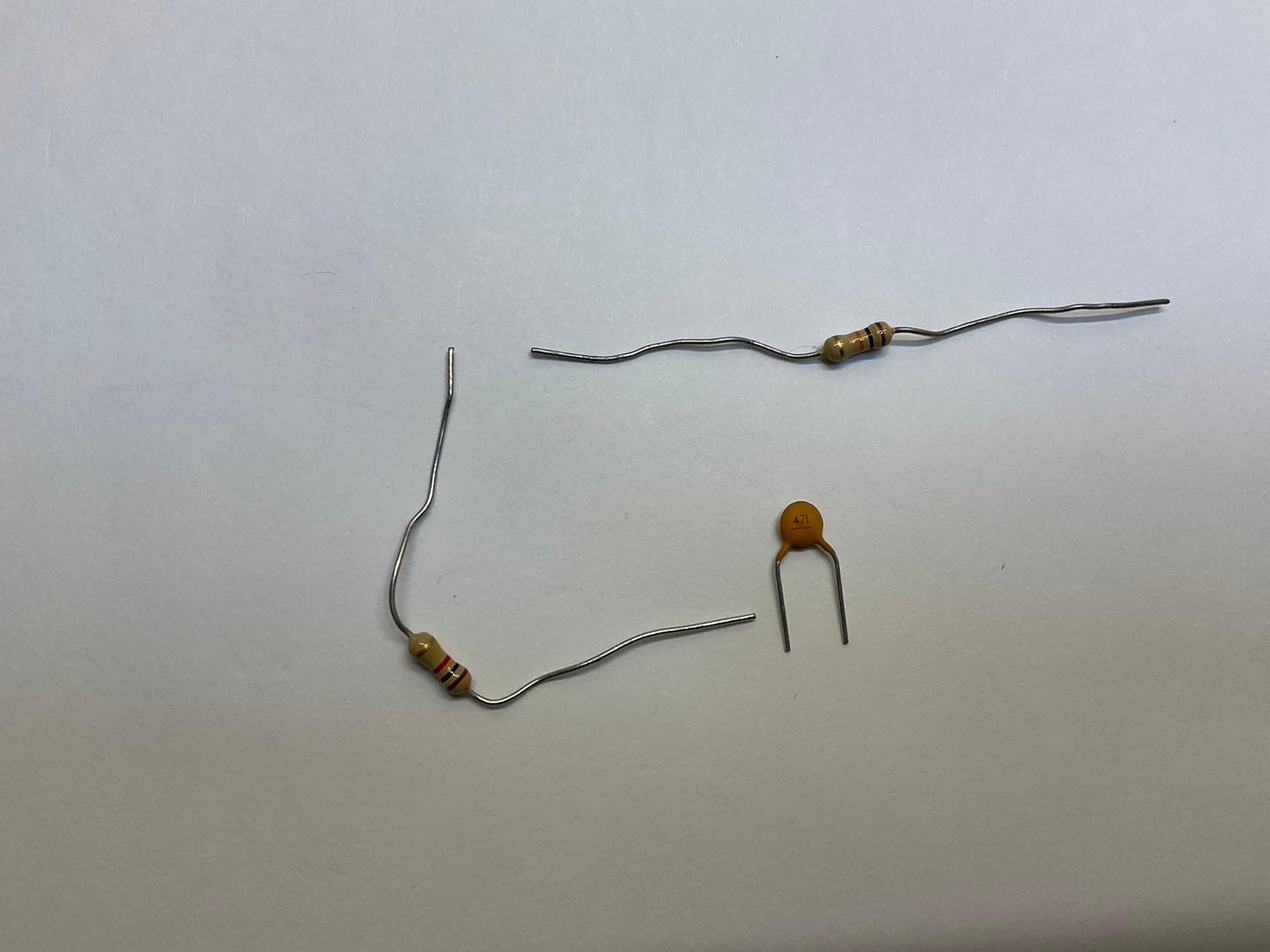resistor: (407, 633, 476, 700), (825, 319, 894, 364)
